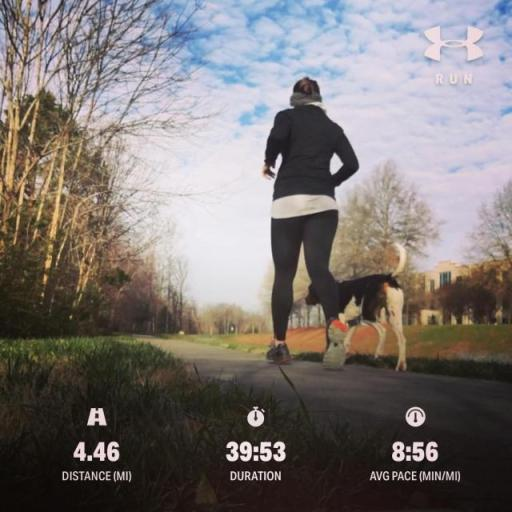Under Armour: (420, 22, 486, 88)
